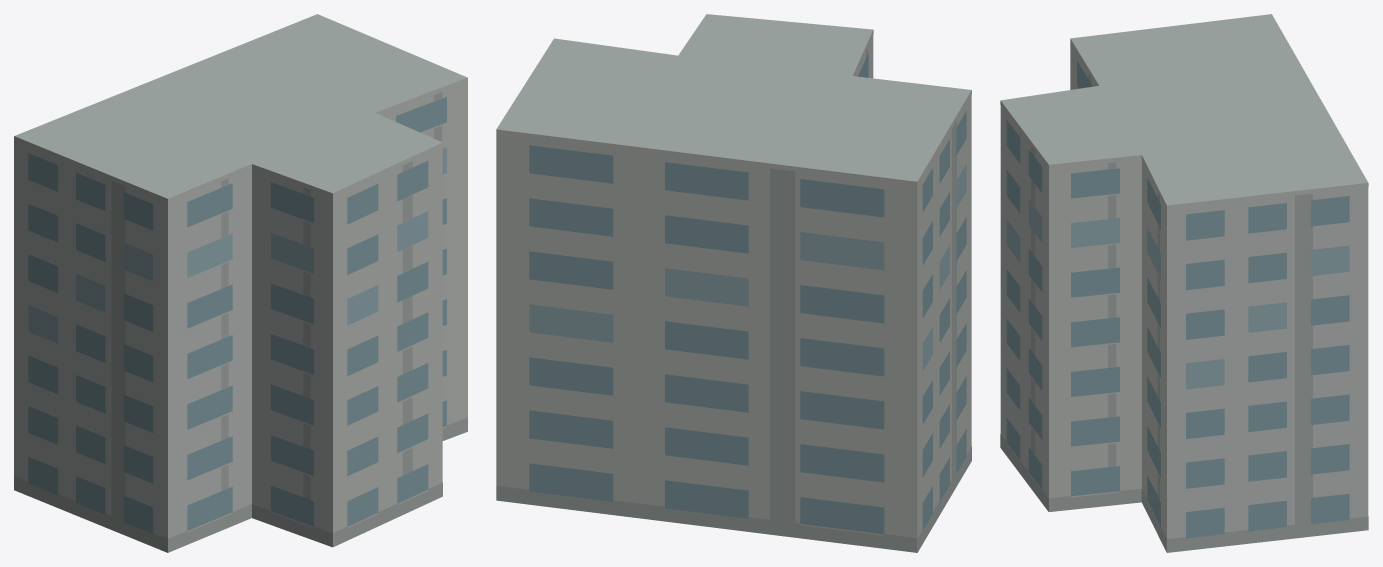
The model's file is survey-upis-32650896.glb.
3 views of the same model, side by side, from view 1: azimuth 30°, elevation 25°; view 2: azimuth 150°, elevation 25°; view 3: azimuth 270°, elevation 25° (orthographic). The views are drawn at different scales.
Parts seen in each view (by area): view 1: survey-upis-32650896.tmp; view 2: survey-upis-32650896.tmp; view 3: survey-upis-32650896.tmp.
Part boxes in pixels (x1,y1,x2,y2): survey-upis-32650896.tmp: [14, 14, 467, 552]; survey-upis-32650896.tmp: [496, 14, 971, 552]; survey-upis-32650896.tmp: [1000, 14, 1368, 552].
Bounding box in the file's own units: 22.01 × 18.6 × 17.87.
